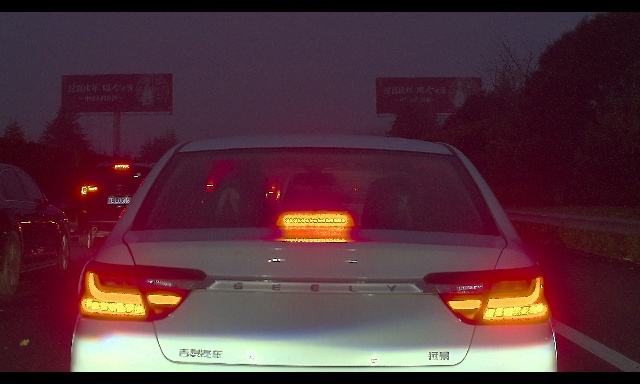car: (69, 133, 558, 372), (0, 163, 71, 296), (77, 161, 175, 246)
